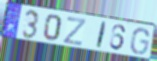0: (42, 14, 63, 43)
3: (21, 8, 41, 41)
6: (110, 24, 127, 52)
G: (129, 27, 151, 56)
I: (95, 21, 108, 51)
Z: (62, 16, 87, 47)
